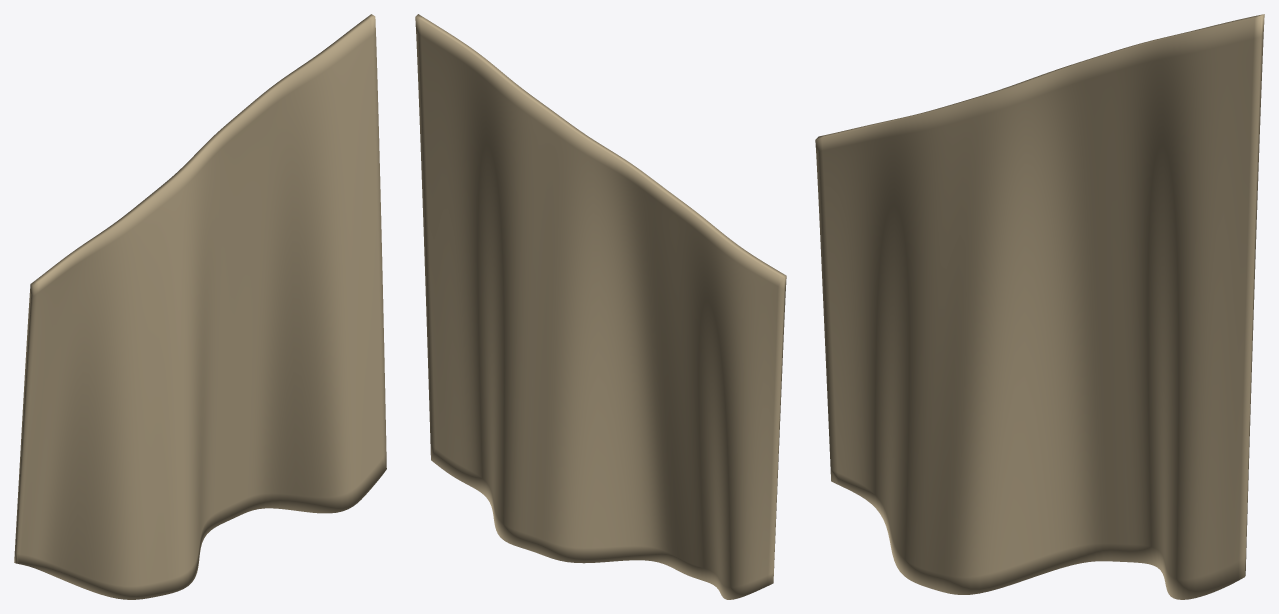
The model's file is cave-drapery.glb.
3 renders of one model, left to right at view 1: azimuth 30°, elevation 25°; view 2: azimuth 150°, elevation 25°; view 3: azimuth 330°, elevation 25°, orthographic. The views are drawn at different scales.
Visible parts, largest first — view 1: thick-folded-mineral-drapery-and-sloping-attachment-edge; view 2: thick-folded-mineral-drapery-and-sloping-attachment-edge; view 3: thick-folded-mineral-drapery-and-sloping-attachment-edge.
Part boxes in pixels (x1=…): thick-folded-mineral-drapery-and-sloping-attachment-edge: x1=14, y1=14, x2=386, y2=599; thick-folded-mineral-drapery-and-sloping-attachment-edge: x1=415, y1=14, x2=786, y2=599; thick-folded-mineral-drapery-and-sloping-attachment-edge: x1=815, y1=14, x2=1264, y2=599.
Size of the model in its own units: 0.3302 by 0.45 by 0.0682.
